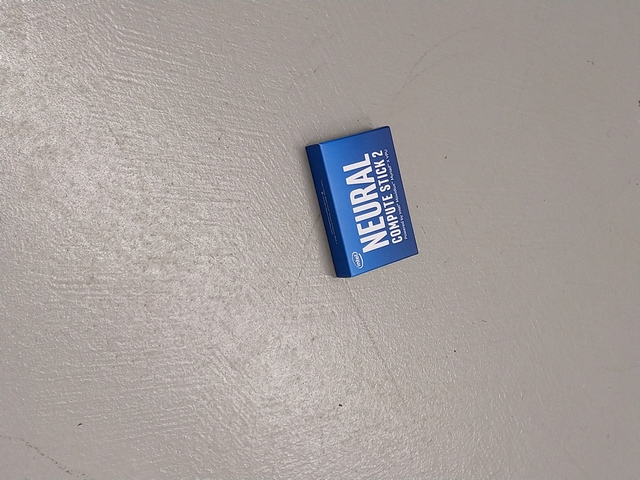box: (304, 125, 421, 279)
